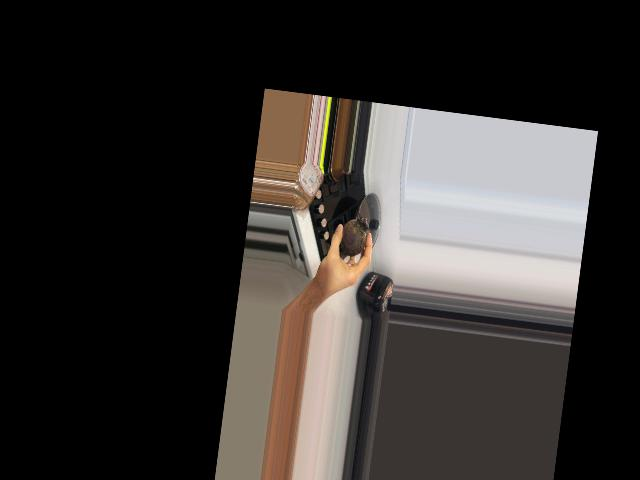beet: (338, 214, 369, 259)
